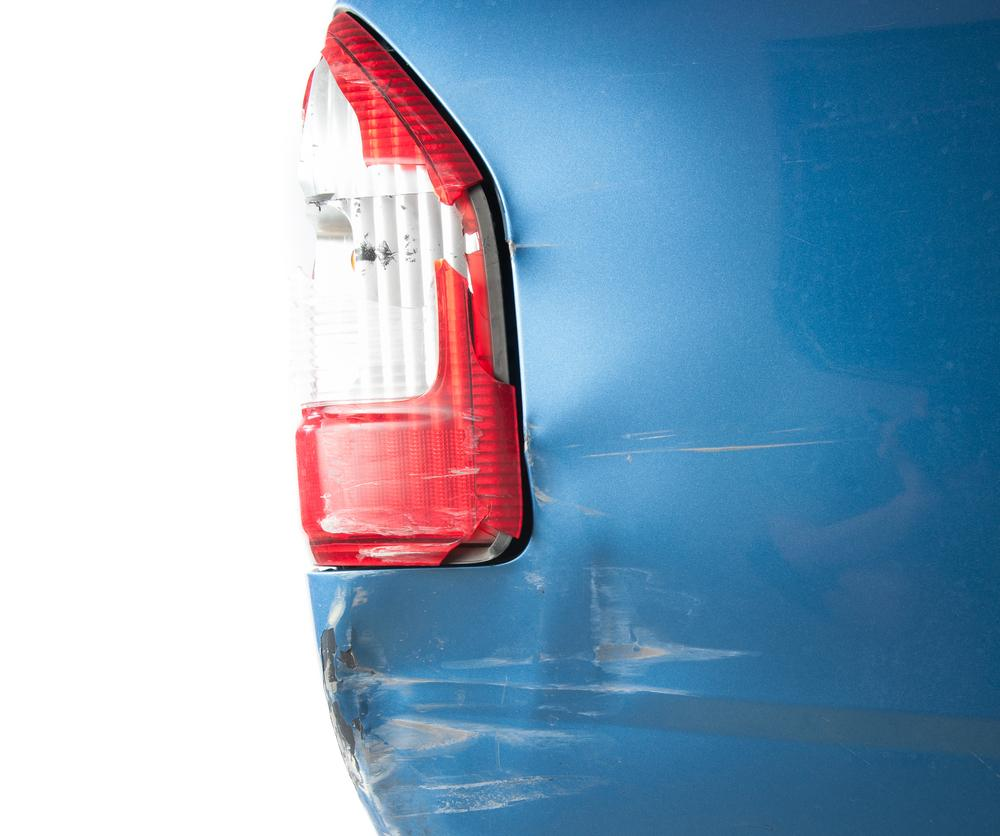dent: (315, 372, 730, 831), (497, 166, 606, 291)
lamp broken: (295, 10, 526, 568)
